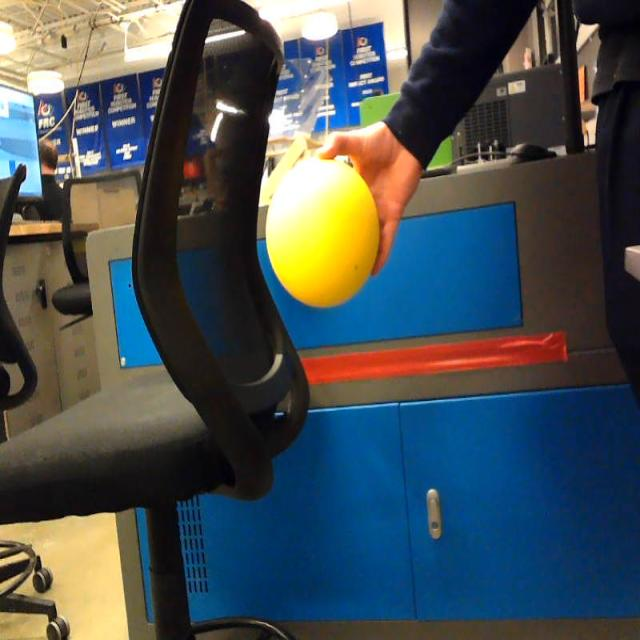Fuel: (266, 156, 380, 308)
